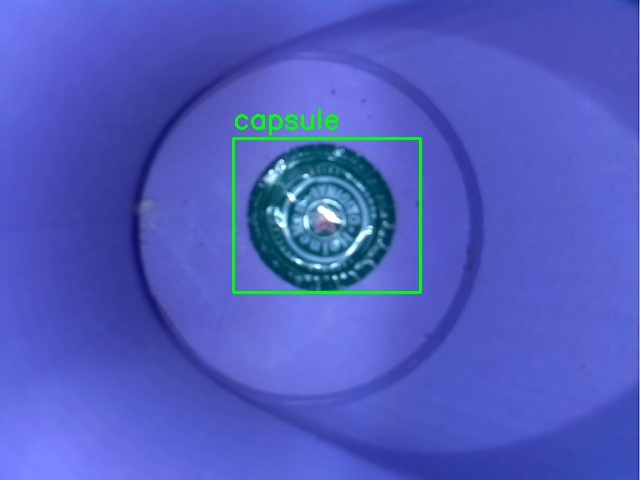capsule: (233, 138, 420, 292)
